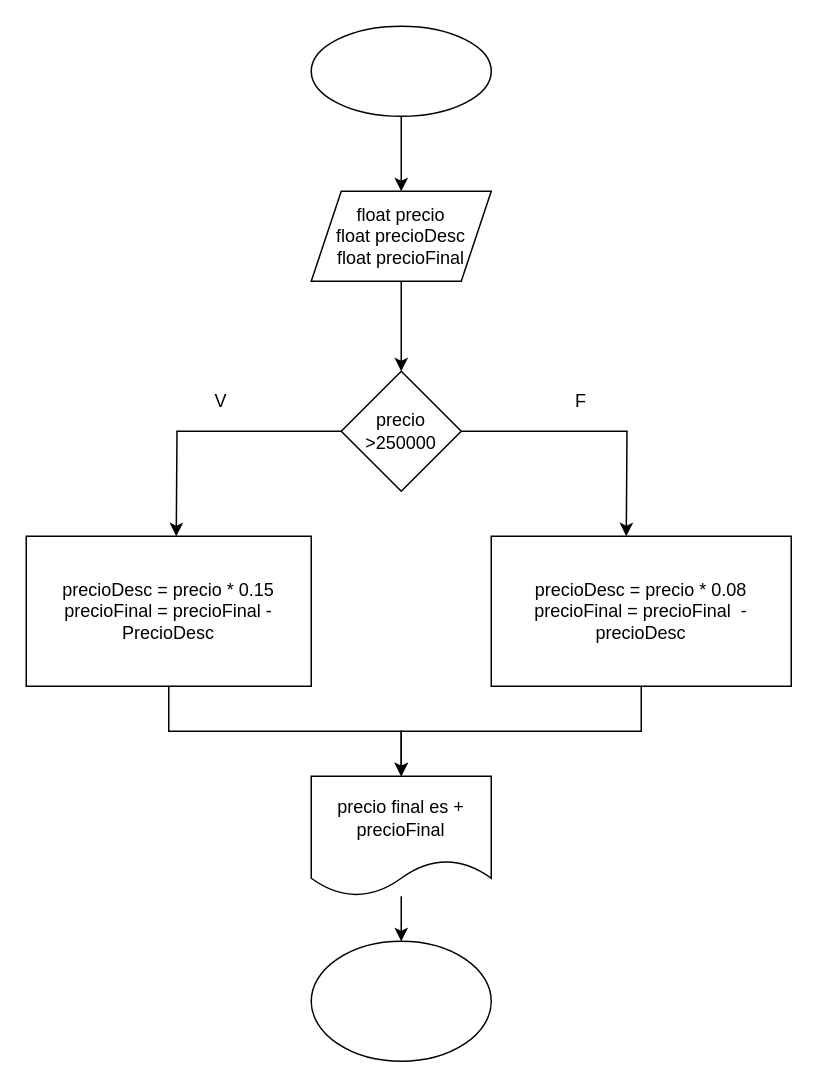
The diagram is 818 pixels wide and 1088 high, and some of its shapes have lost their labels. The centre of each missing label's shape, as x and y in pixels:
"finAlgoritmo" goes at point 400,1000.
"Inicio" goes at point 400,70.
